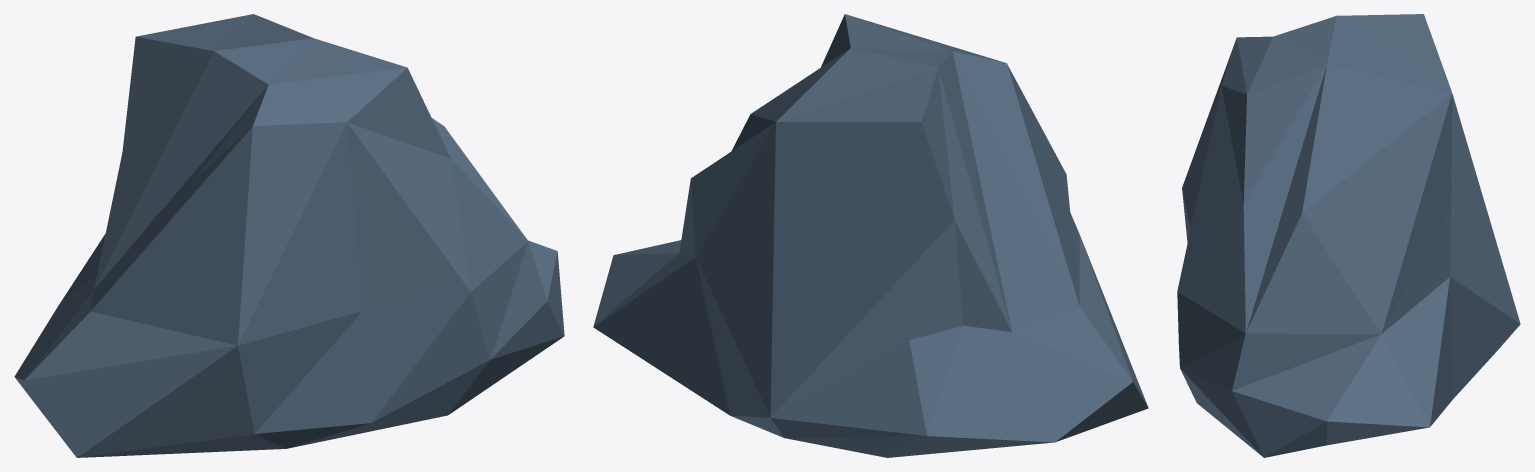
Rendered from AW_Rock04.fbx.
3 renders of one model, left to right at view 1: azimuth 30°, elevation 25°; view 2: azimuth 150°, elevation 25°; view 3: azimuth 270°, elevation 25°, orthographic. The views are drawn at different scales.
Visible parts, largest first — view 1: AW_Rock04; view 2: AW_Rock04; view 3: AW_Rock04.
Boxes of the visible parts, box(x1,y1,x2,y2) form: AW_Rock04: box(14, 14, 564, 457); AW_Rock04: box(593, 14, 1148, 457); AW_Rock04: box(1177, 14, 1520, 457).
Bounding box in the file's own units: 135 × 83.96 × 82.43.
1 material, 1 textured.
